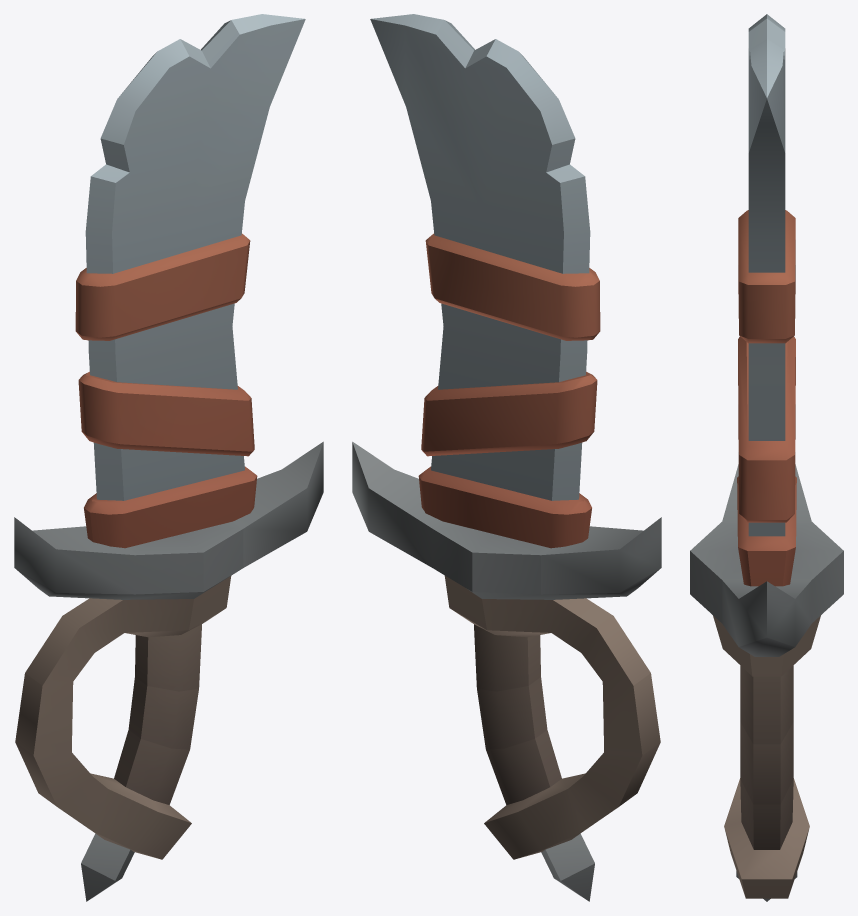
Rendered from blade.glb.
3 views of the same model, side by side, from view 1: azimuth 30°, elevation 25°; view 2: azimuth 150°, elevation 25°; view 3: azimuth 270°, elevation 25° (orthographic). The views are drawn at different scales.
Parts seen in each view (by area): view 1: Skeleton_Blade; view 2: Skeleton_Blade; view 3: Skeleton_Blade.
Part boxes in pixels (left/top/right/bottom): Skeleton_Blade: left=14, top=14, right=323, bottom=901; Skeleton_Blade: left=352, top=14, right=661, bottom=901; Skeleton_Blade: left=690, top=14, right=843, bottom=901.
Size of the model in its own units: 0.5727 by 1.5 by 0.2223.
1 material, 1 textured.
